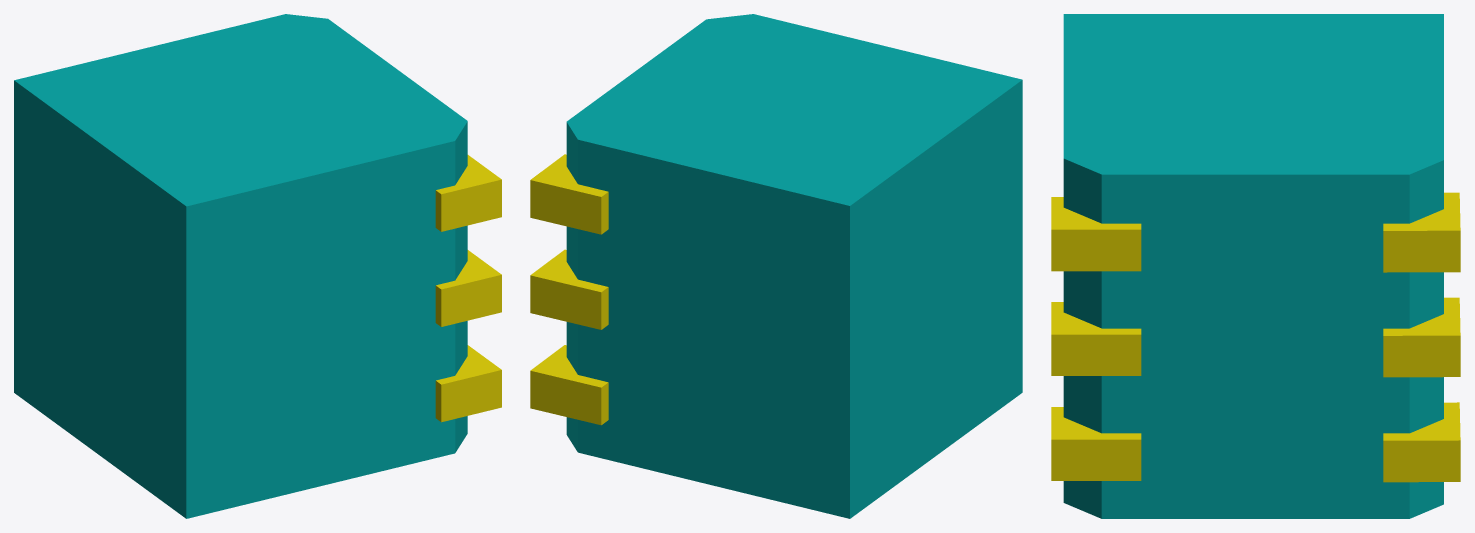
Rendered from 1Left Connect blueyellow.fbx.
3 renders of one model, left to right at view 1: azimuth 30°, elevation 25°; view 2: azimuth 150°, elevation 25°; view 3: azimuth 270°, elevation 25°, orthographic. The views are drawn at different scales.
Parts seen in each view (by area): view 1: pCube10; view 2: pCube10; view 3: pCube10.
Part boxes in pixels (left/top/right/bottom): pCube10: left=14, top=14, right=501, bottom=518; pCube10: left=530, top=14, right=1022, bottom=518; pCube10: left=1051, top=14, right=1460, bottom=518.
Size of the model in its own units: 2.09 by 2 by 2.15.
